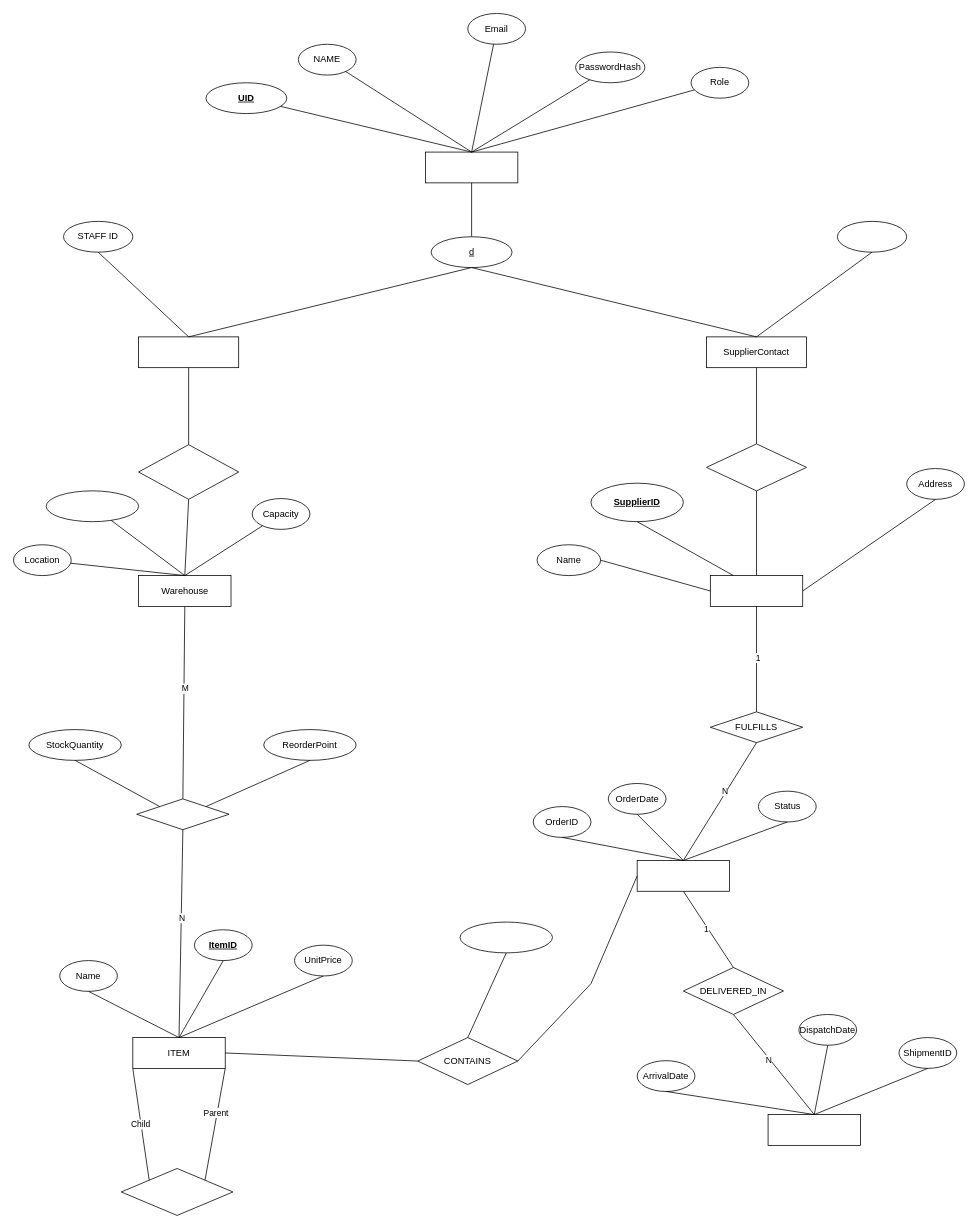
Some shapes in this 978 by 1229 pixel diagram are drawn without their labels. The shapes that lost their labels are listed below. From the top down, each one's centre as x and y in pixels, then its label:
At point (471, 167): "USER".
At point (872, 236): "ContactID".
At point (188, 352): "WAREHOUSE_STAFF".
At point (188, 471): "Manages".
At point (756, 467): "Represents".
At point (92, 506): "WarehouseID".
At point (756, 590): "Supplier".
At point (182, 814): "INVENTORY".
At point (683, 875): "ORDER".
At point (505, 937): "Quantity".
At point (813, 1129): "SHIPMENT".
At point (177, 1191): "COMPOSED_OF".
